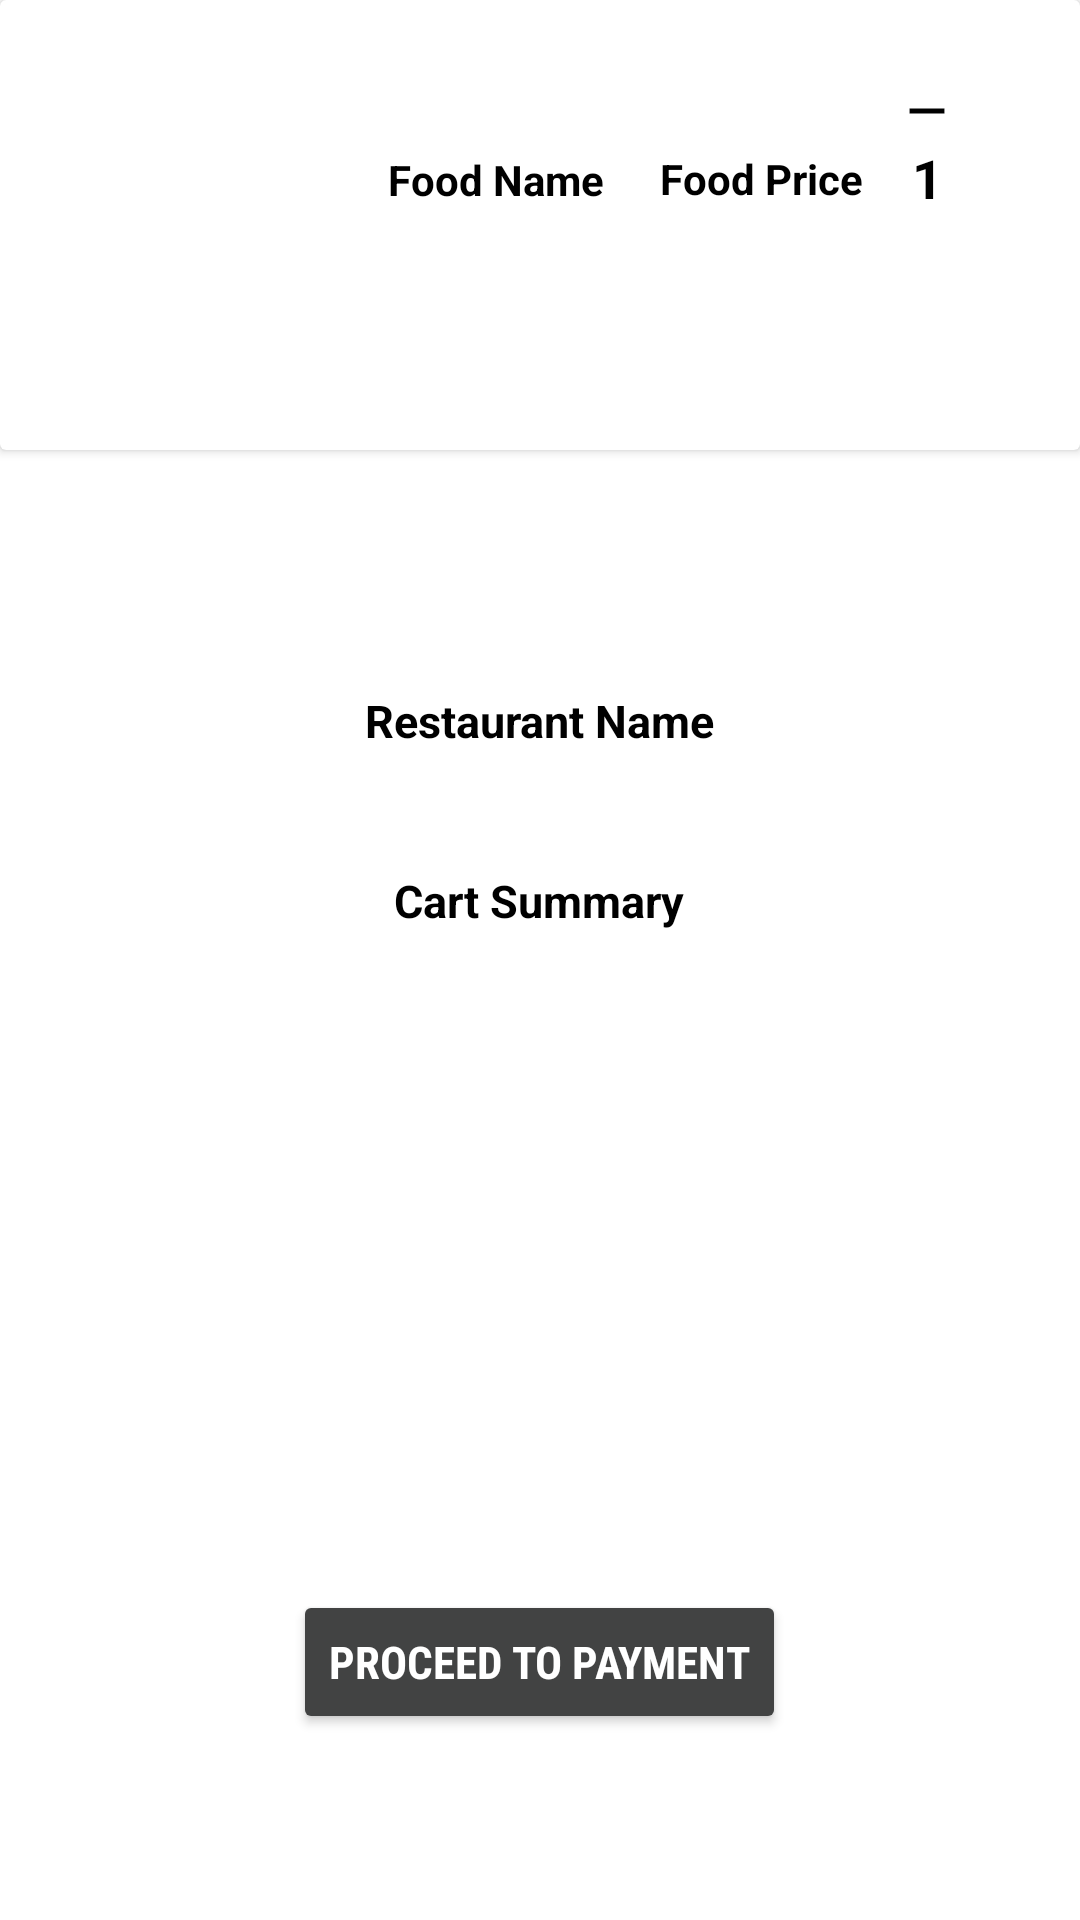

Icons on this 1080 x 1920 Android screen, each with its box as (x1, y1, x2, y2):
minus: (909, 108, 945, 114)
